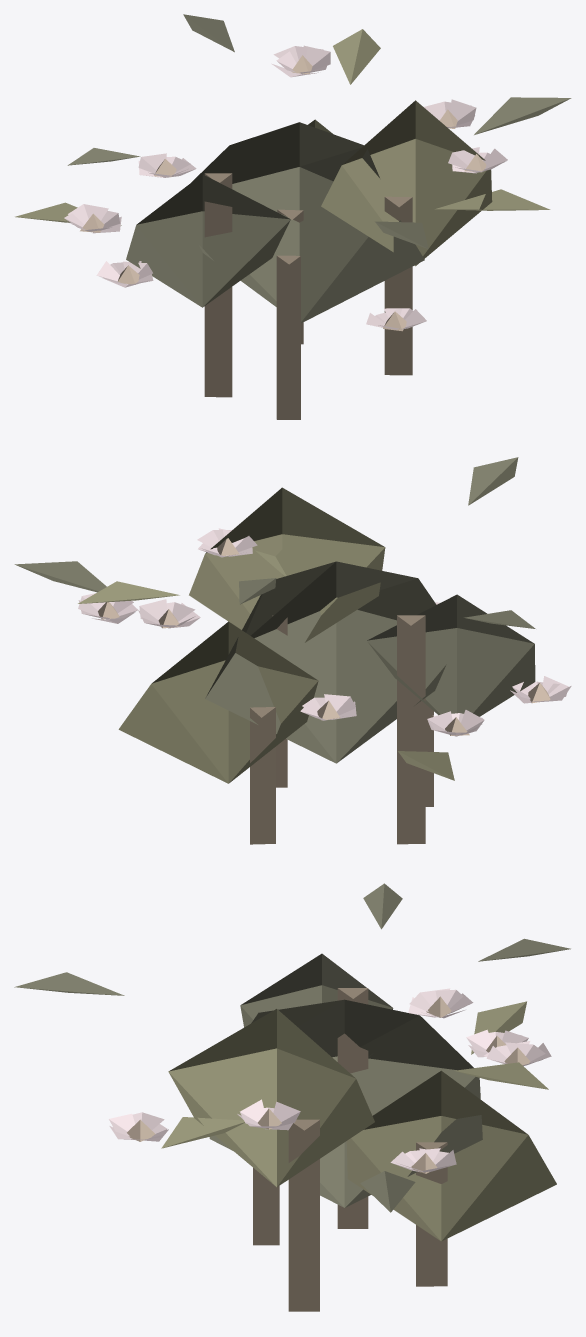
Rendered from guan.moli__winter.glb.
3 views of the same model, one above another, from view 1: azimuth 30°, elevation 25°; view 2: azimuth 150°, elevation 25°; view 3: azimuth 270°, elevation 25° (orthographic). The views are drawn at different scales.
Parts seen in each view (by area): view 1: guan.moli__winter; view 2: guan.moli__winter; view 3: guan.moli__winter.
Part boxes in pixels (x1,y1,x2,y2): guan.moli__winter: (15, 14, 571, 419); guan.moli__winter: (14, 457, 571, 844); guan.moli__winter: (14, 883, 570, 1311).
Size of the model in its own units: 2.34 by 1.31 by 2.06.
